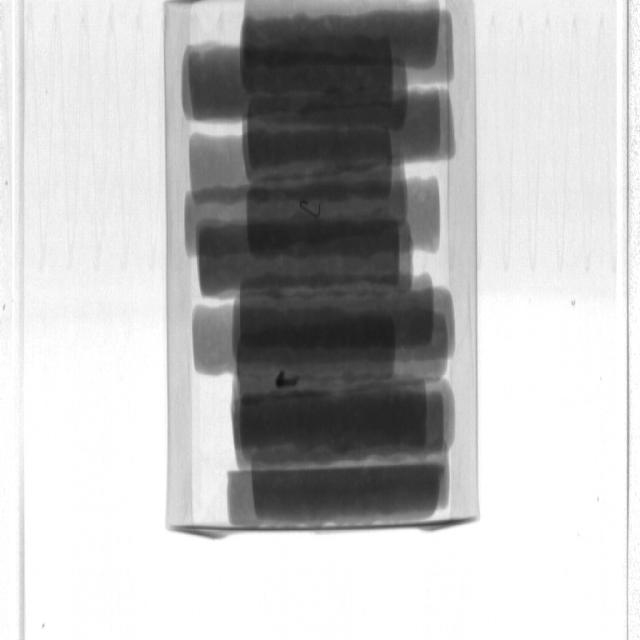ym: (276, 373, 300, 389), (302, 201, 322, 218)
